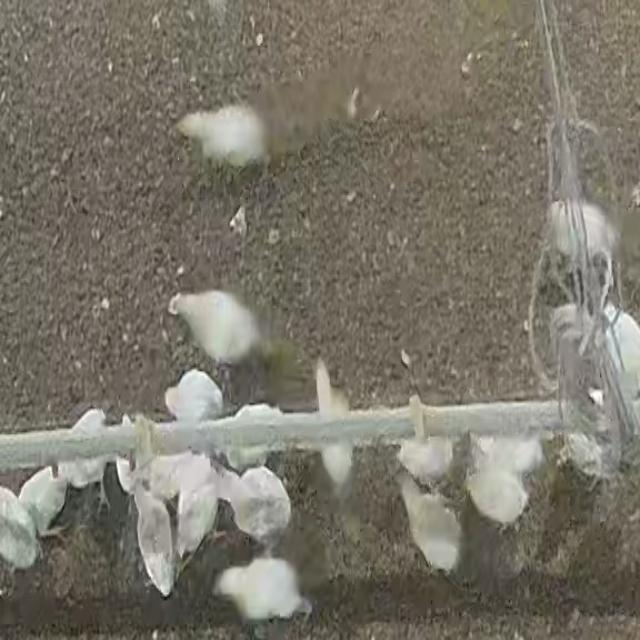chicken: (171, 286, 259, 361), (218, 466, 298, 546), (394, 484, 464, 571), (218, 557, 312, 617), (315, 358, 357, 483), (181, 108, 268, 168), (137, 496, 187, 592), (180, 462, 228, 548), (18, 468, 78, 533), (57, 404, 104, 486), (468, 482, 531, 535), (162, 370, 227, 420)
